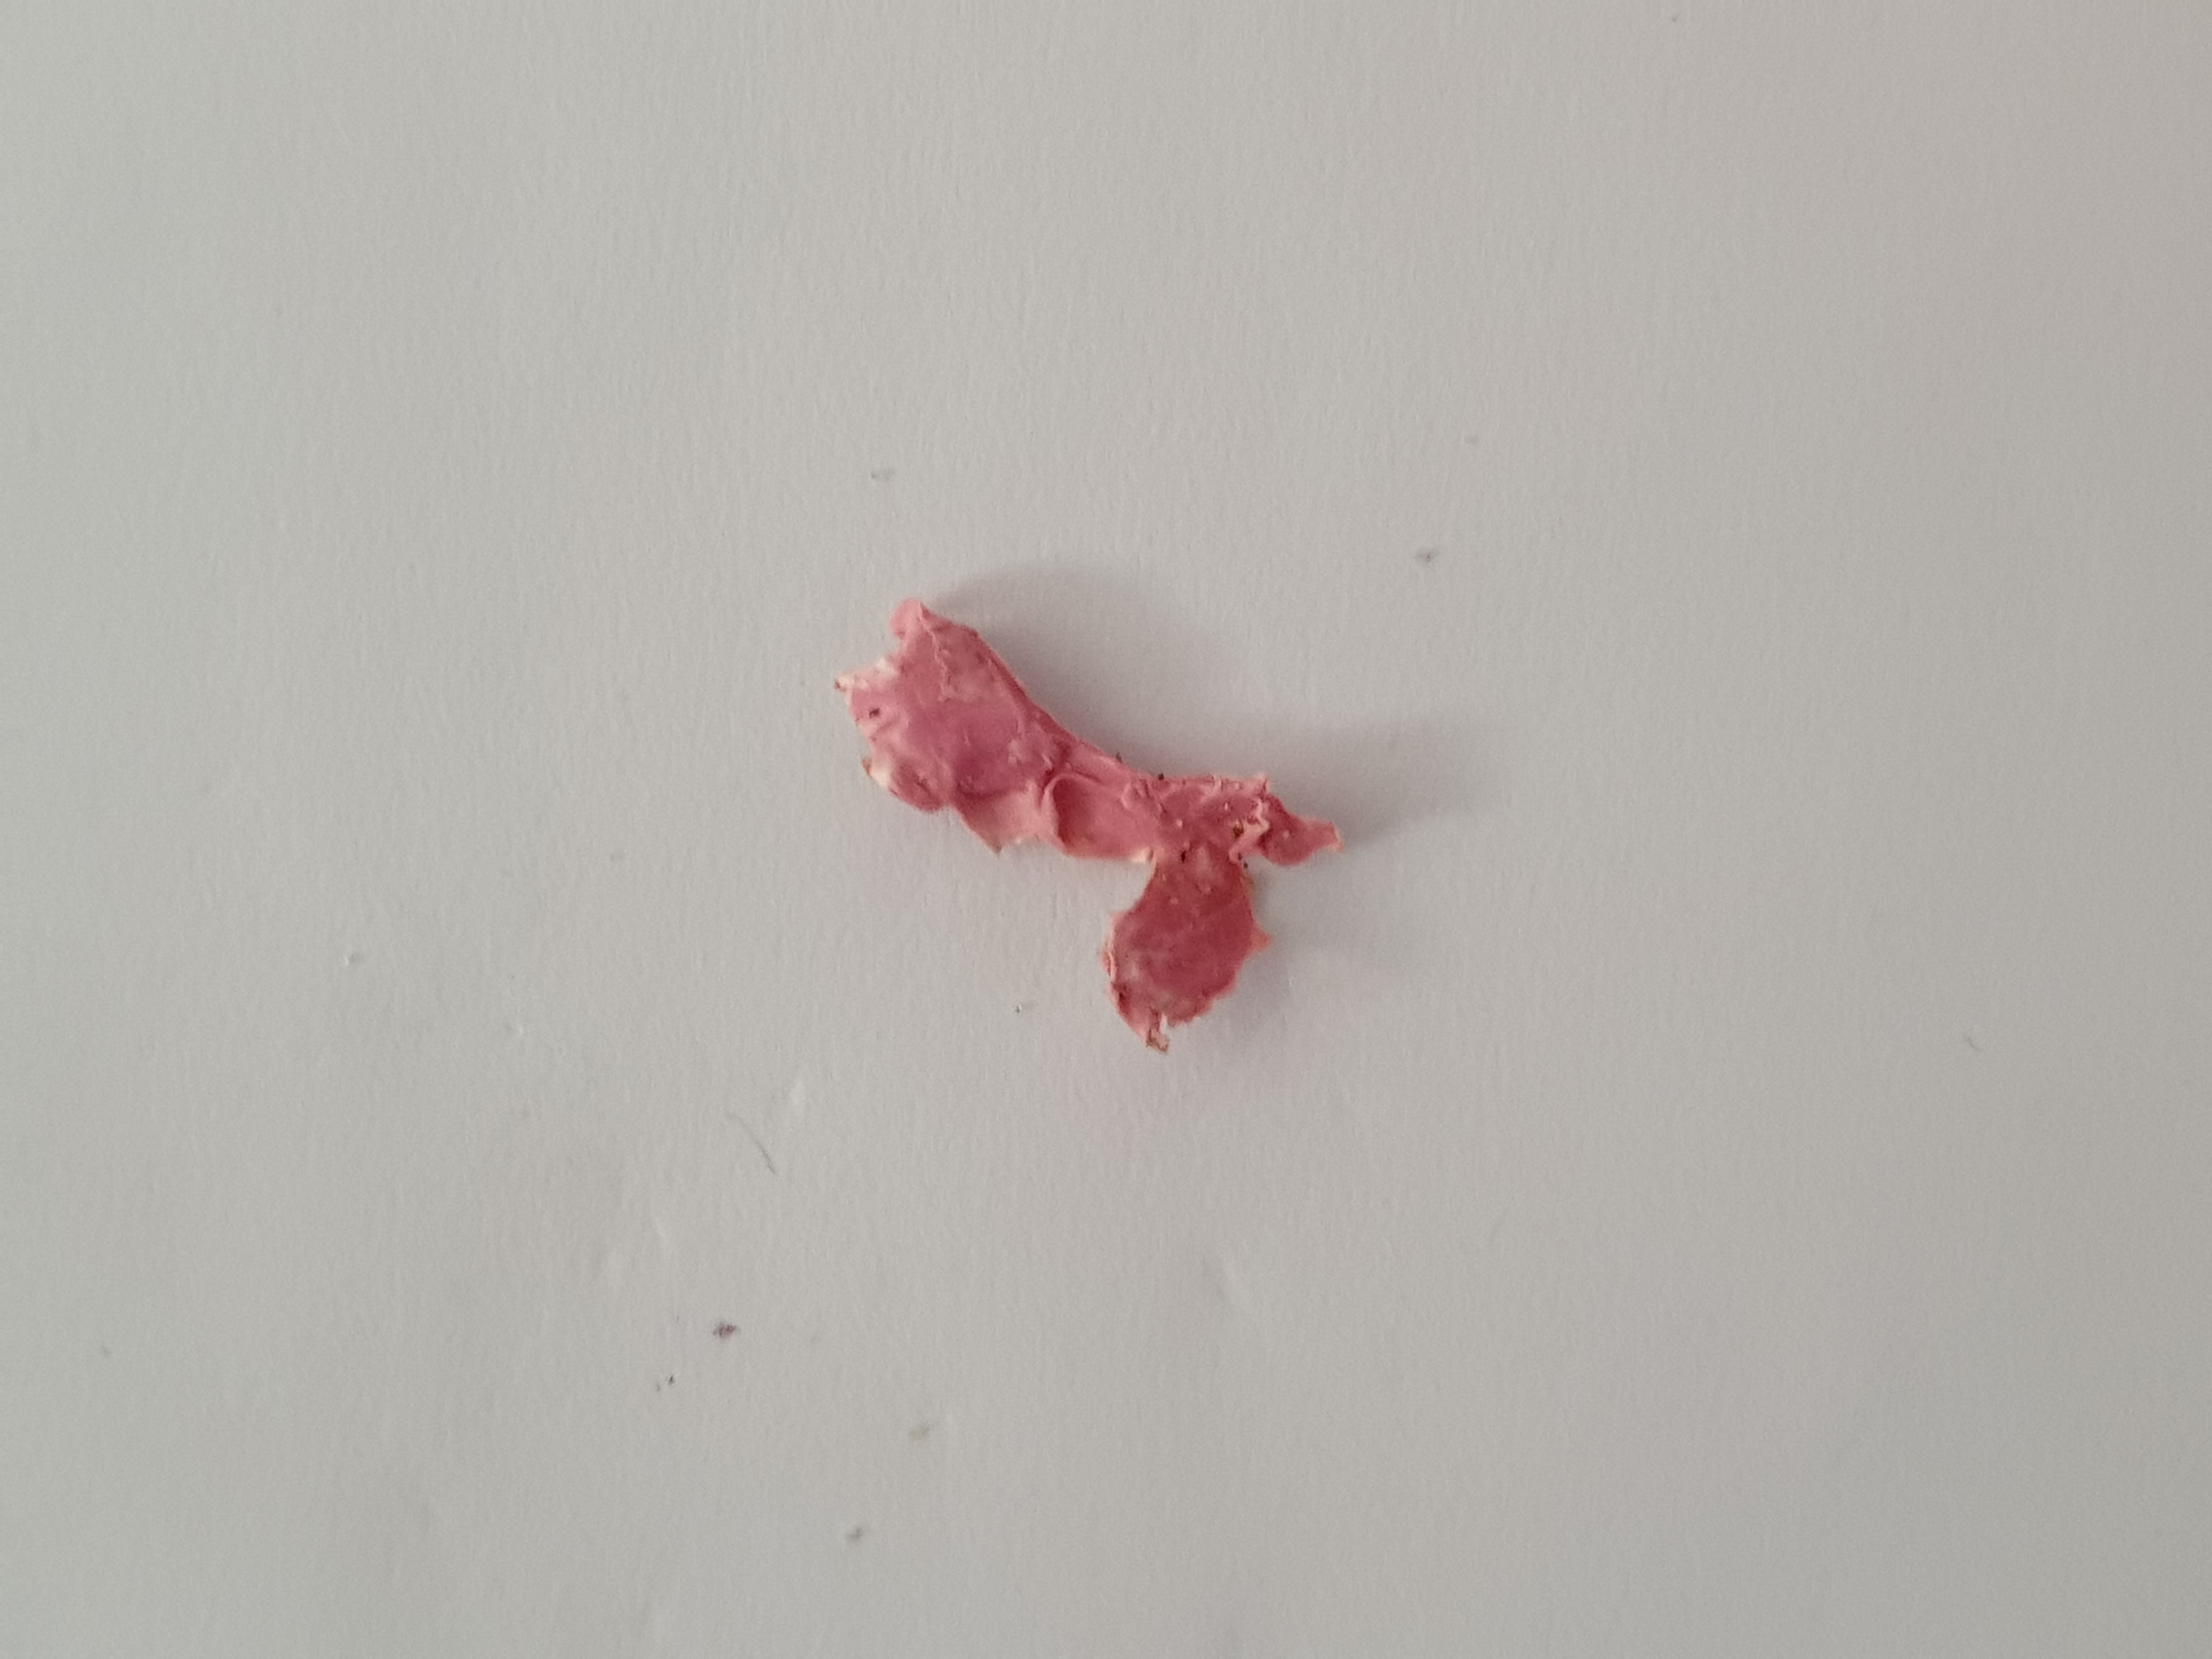plastic: (806, 570, 1371, 1072)
